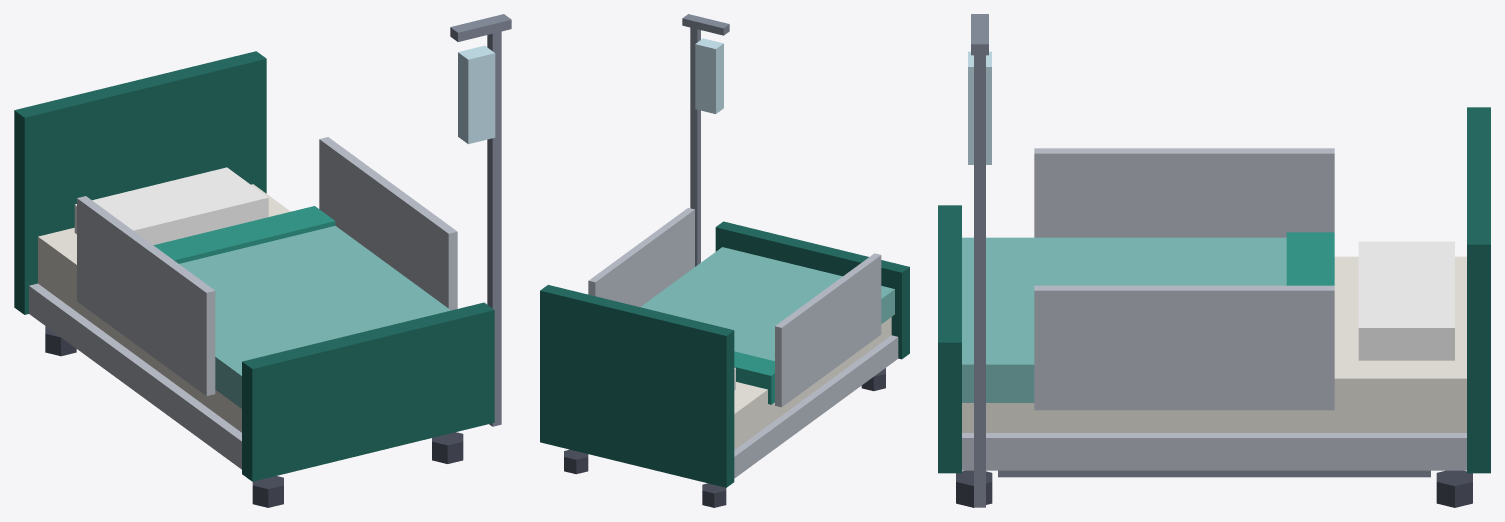
Rendered from bed.glb.
The picture shows the model from 3 angles, left to right: view 1: azimuth 30°, elevation 25°; view 2: azimuth 150°, elevation 25°; view 3: azimuth 270°, elevation 25°; orthographic projection. The views are drawn at different scales.
Visible parts, largest first — view 1: bed; view 2: bed; view 3: bed.
Part boxes in pixels (x1,y1,x2,y2): bed: (14, 14, 511, 507); bed: (540, 14, 909, 507); bed: (938, 14, 1490, 507).
Size of the model in its own units: 0.62 by 0.9 by 0.92.
Materials: 1 (1 with a texture image).
